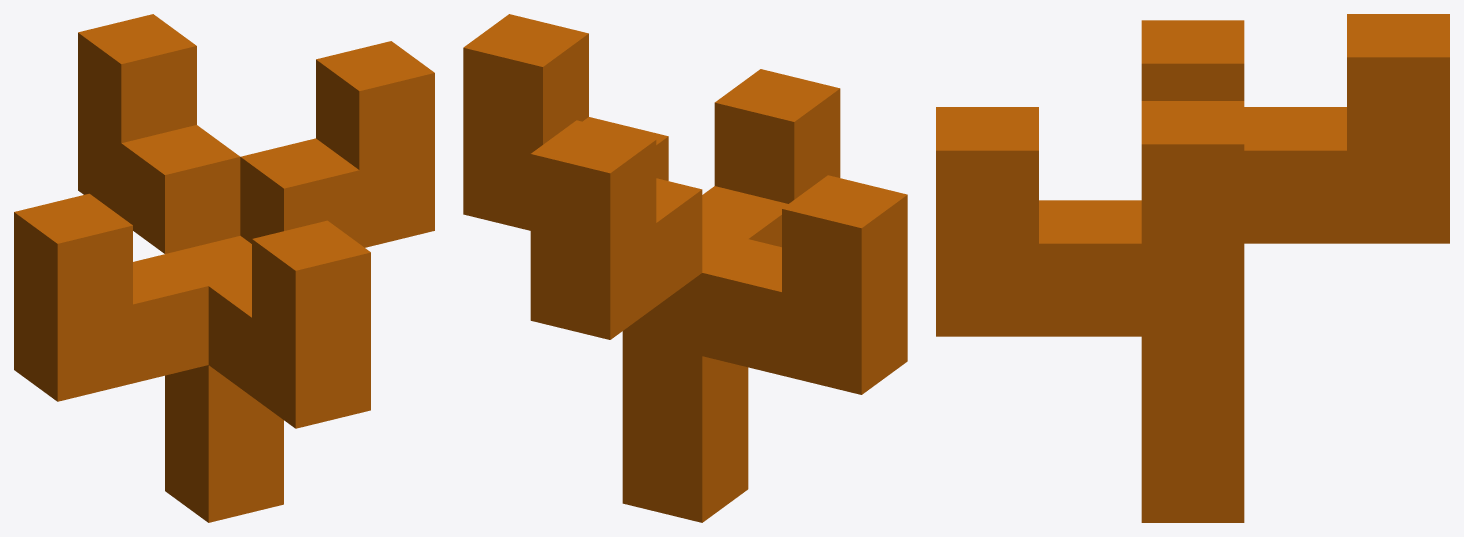
Rendered from smalldeadbrush.obj.
3 renders of one model, left to right at view 1: azimuth 30°, elevation 25°; view 2: azimuth 150°, elevation 25°; view 3: azimuth 270°, elevation 25°, orthographic. The views are drawn at different scales.
Bounding box in the file's own units: 0.5 × 0.5 × 0.5.
1 material, 1 textured.
